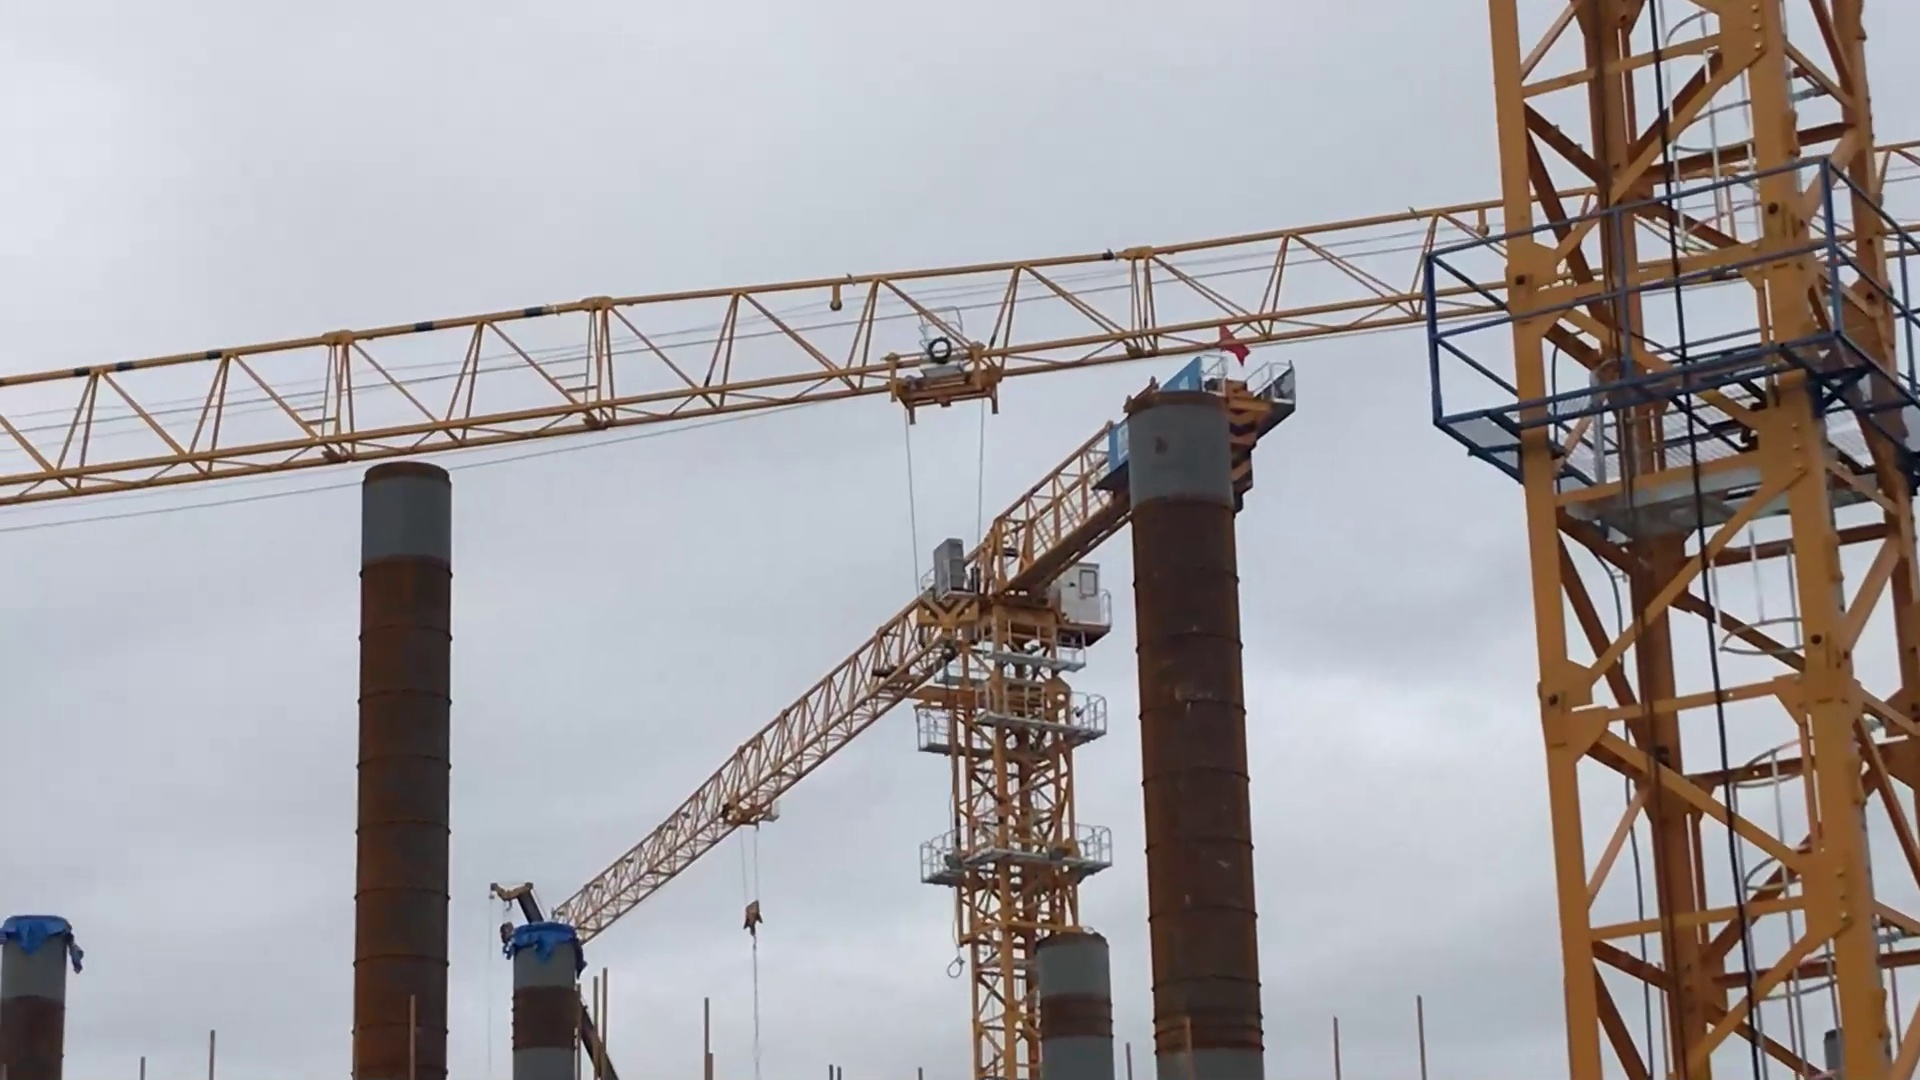hook: (720, 891, 785, 938)
